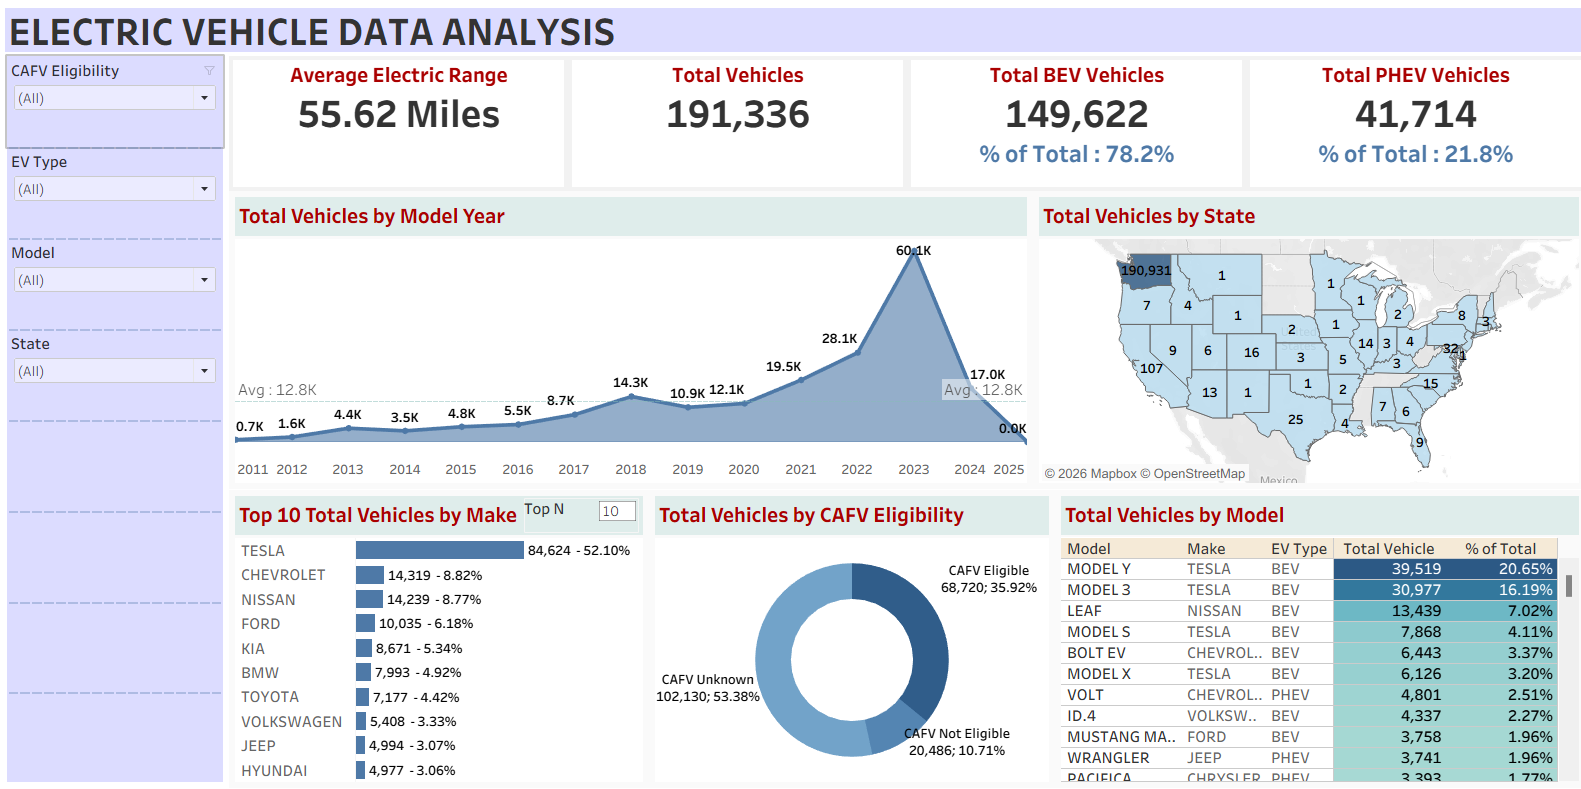

Layout of this report page (visuals, bound fields, positions):
{"tool":"tableau","page":{"name":"Dashboard 1","canvas":[1000,1000],"units":"permille","ordinal":0},"visuals":[{"type":"title","box":[5,10,990,65]},{"type":"filter","title":"Total Vehicles by Model Year","param":"[federated.1rlh5ye065385j1eer5250m7shnm].[none:Clean Alternative Fuel Vehicle (C","box":[8.8,75,135,113.8]},{"type":"worksheet","title":"Average Electric Range","mark":"Automatic","box":[147.5,75,211.9,168.8]},{"type":"worksheet","title":"Total Vehicles","mark":"Automatic","box":[359.4,75,211.9,168.8]},{"type":"worksheet","title":"Total BEV Vehicles","mark":"Automatic","box":[571.2,75,211.9,168.8]},{"type":"worksheet","title":"Total PHEV Vehicles ","mark":"Automatic","box":[783.1,75,211.9,168.8]},{"type":"filter","title":"Total Vehicles by Model Year","param":"[federated.1rlh5ye065385j1eer5250m7shnm].[none:Electric Vehicle Type:nk]","box":[8.8,188.8,135,113.8]},{"type":"worksheet","title":"Total Vehicles by Model Year","mark":"Area","rows":["Calculation_1028900644777984","Calculation_1028900644777984"],"cols":["Model Year"],"box":[147.5,243.9,502.5,373.1]},{"type":"worksheet","title":"Total Vehicles by State","mark":"Multipolygon","box":[650,243.9,345,373.1]},{"type":"filter","title":"Total Vehicles by Model Year","param":"[federated.1rlh5ye065385j1eer5250m7shnm].[none:Model:nk]","box":[8.8,302.5,135,113.8]},{"type":"filter","title":"Total Vehicles by Model Year","param":"[federated.1rlh5ye065385j1eer5250m7shnm].[none:State:nk]","box":[8.8,416.2,135,113.8]},{"type":"blank","box":[8.8,530,135,113.8]},{"type":"worksheet","title":"Top 10 Total Vehicles by Make","mark":"Bar","rows":["Make"],"cols":["Calculation_1028900644777984"],"box":[147.5,616.9,262.5,373.1]},{"type":"worksheet","title":"Total Vehicles by CAFV Eligibility","mark":"Pie","rows":["Calculation_0416473545355266","Calculation_0416473545355266"],"box":[410,616.9,253.8,373.1]},{"type":"worksheet","title":"Total Vehicles by Model","mark":"Square","rows":["Model","Make","Electric Vehicle Type"],"box":[663.8,616.9,331.2,373.1]},{"type":"parameter","param":"[Parameters].[Parameter 1]","box":[331.9,627.5,71.9,43.8]},{"type":"blank","box":[8.8,643.8,135,113.8]},{"type":"blank","box":[8.8,757.5,135,112.5]},{"type":"blank","box":[8.8,870,135,112.5]}]}

Visuals, with their boxes on the dashboard's canvas, which has no fixed pixel size, in thousandths of its width and height (x1, y1, x2, y2). These are canvas units, not pixel positions in the 1581x789 screenshot, which may show the page scaled, cropped or inside an application window:
title: 5/10/995/75
"Total Vehicles by Model Year" filter: 9/75/144/189
"Average Electric Range" worksheet: 148/75/359/244
"Total Vehicles" worksheet: 359/75/571/244
"Total BEV Vehicles" worksheet: 571/75/783/244
"Total PHEV Vehicles " worksheet: 783/75/995/244
"Total Vehicles by Model Year" filter: 9/189/144/303
"Total Vehicles by Model Year" worksheet (Area marks): 148/244/650/617
"Total Vehicles by State" worksheet (Multipolygon marks): 650/244/995/617
"Total Vehicles by Model Year" filter: 9/302/144/416
"Total Vehicles by Model Year" filter: 9/416/144/530
blank: 9/530/144/644
"Top 10 Total Vehicles by Make" worksheet (Bar marks): 148/617/410/990
"Total Vehicles by CAFV Eligibility" worksheet (Pie marks): 410/617/664/990
"Total Vehicles by Model" worksheet (Square marks): 664/617/995/990
parameter: 332/628/404/671
blank: 9/644/144/758
blank: 9/758/144/870
blank: 9/870/144/982
